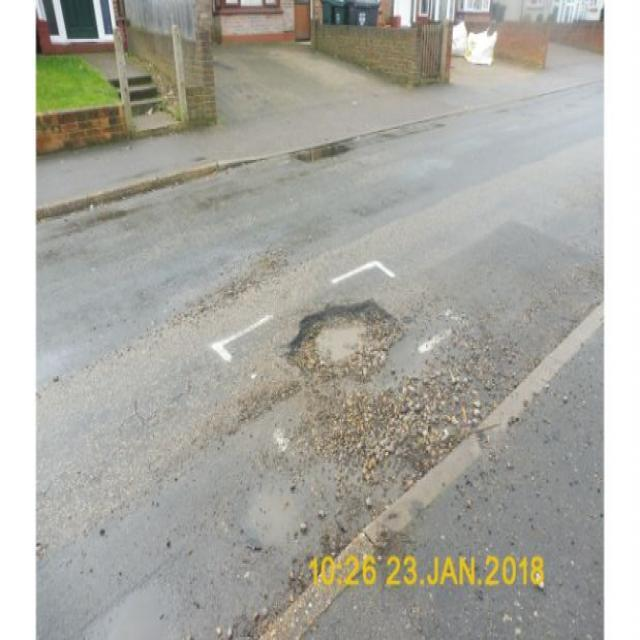pothole: (278, 295, 404, 388)
